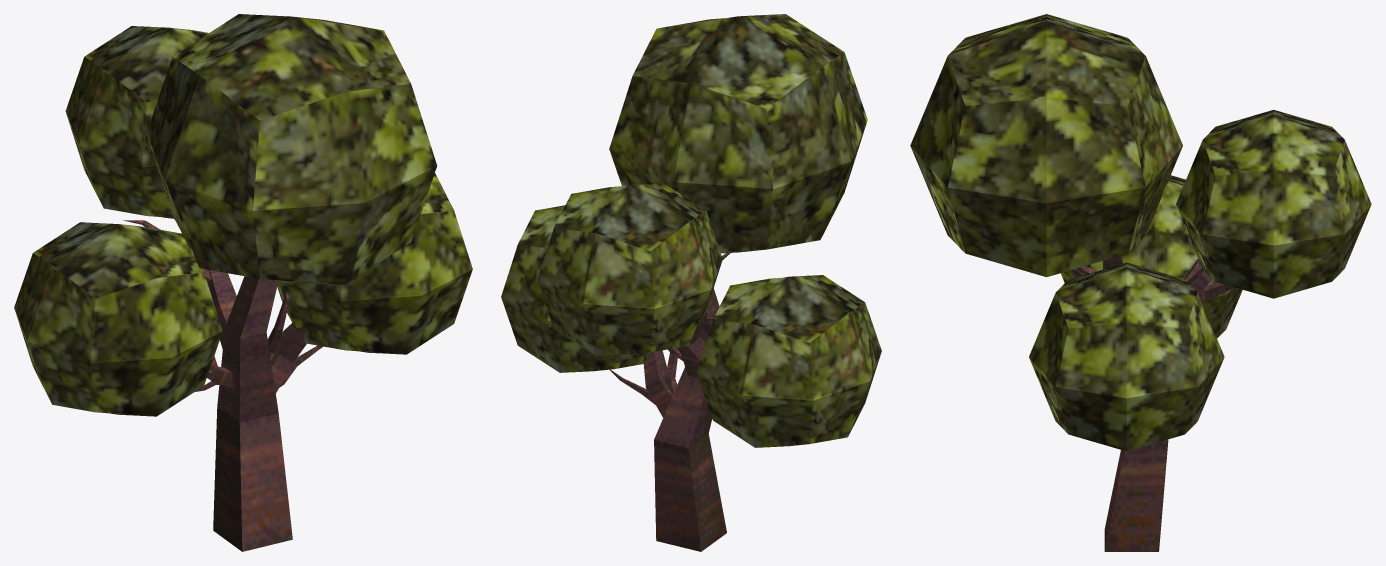
The model's file is Tree3.fbx.
The picture shows the model from 3 angles, left to right: view 1: azimuth 30°, elevation 25°; view 2: azimuth 150°, elevation 25°; view 3: azimuth 270°, elevation 25°; orthographic projection. The views are drawn at different scales.
Parts seen in each view (by area): view 1: Cube.061; view 2: Cube.061; view 3: Cube.061.
Boxes of the visible parts, x1,y1,x2,y2 form: Cube.061: (14, 14, 472, 551); Cube.061: (501, 14, 881, 551); Cube.061: (910, 14, 1371, 551).
Size of the model in its own units: 1650 by 2093 by 1698.
